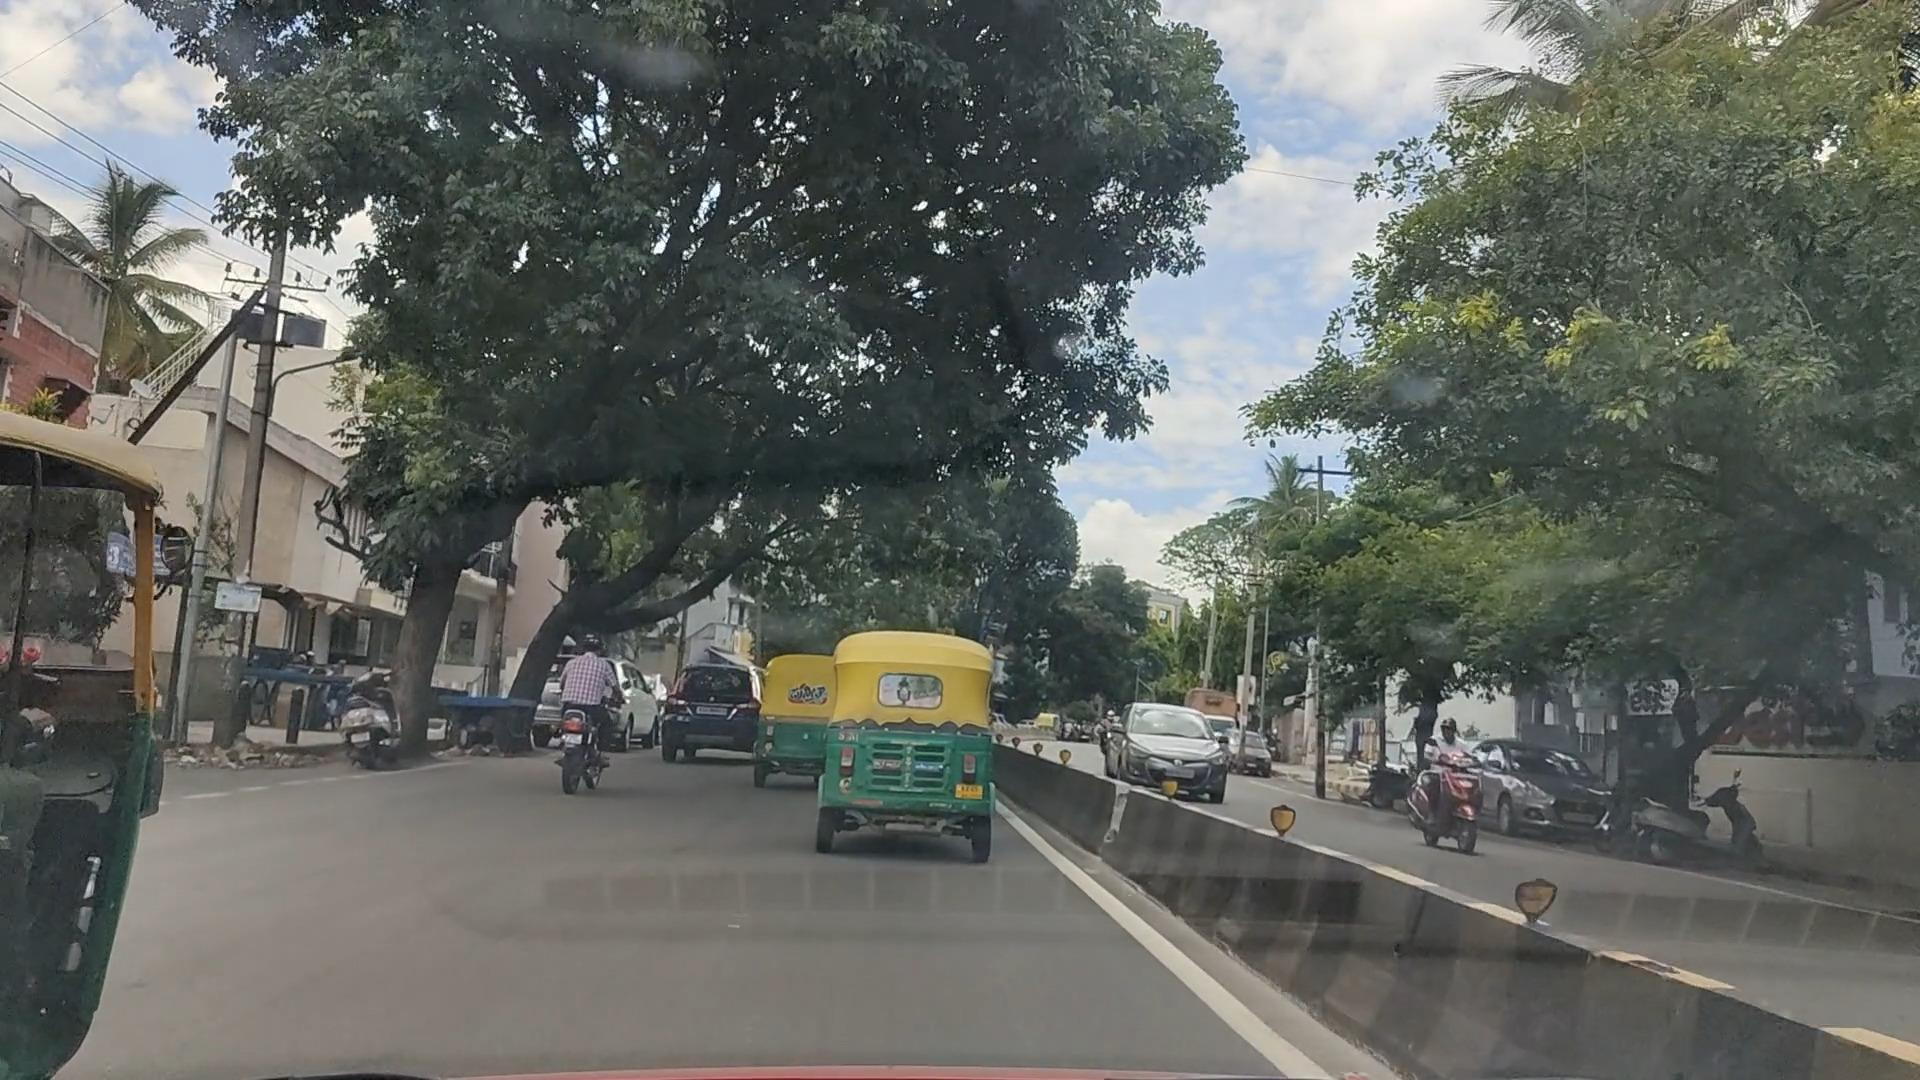LMV: (836, 628, 996, 848), (527, 622, 628, 793), (655, 647, 760, 769), (770, 653, 841, 773)
